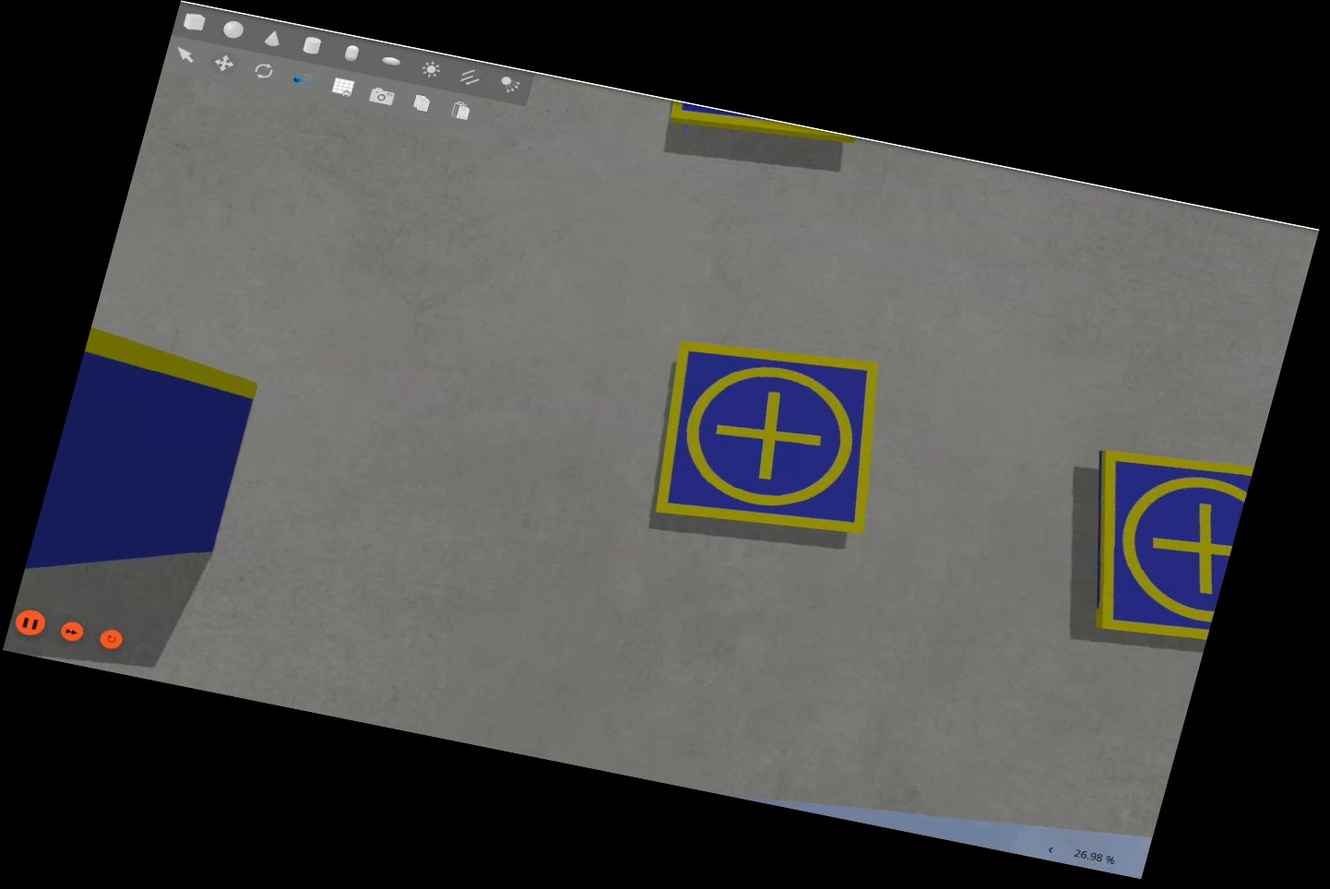small_base: (632, 324, 910, 555), (1053, 438, 1255, 651)
